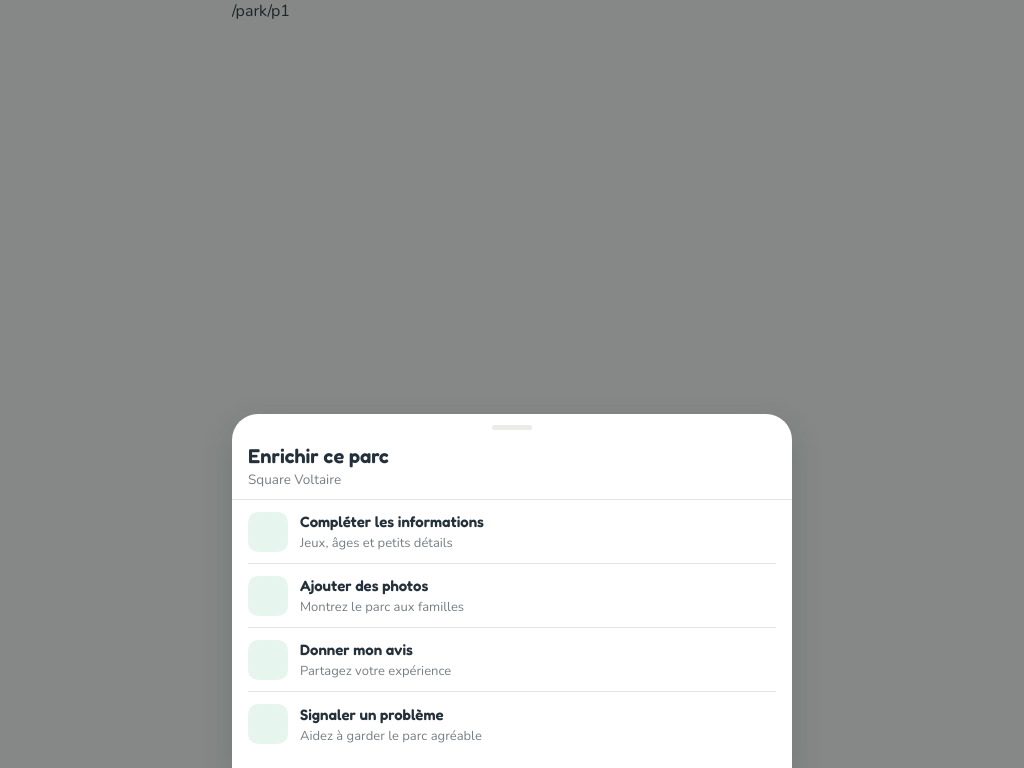
ContributeSheet — « Enrichir ce parc » › « Donner mon avis » ouvre le parcours avec le parc présélectionné
What coordinates should you click on to do the following:
click the text "Donner mon avis"
I would click on:
 (356, 650)
Its box is 300,640 -> 413,659.
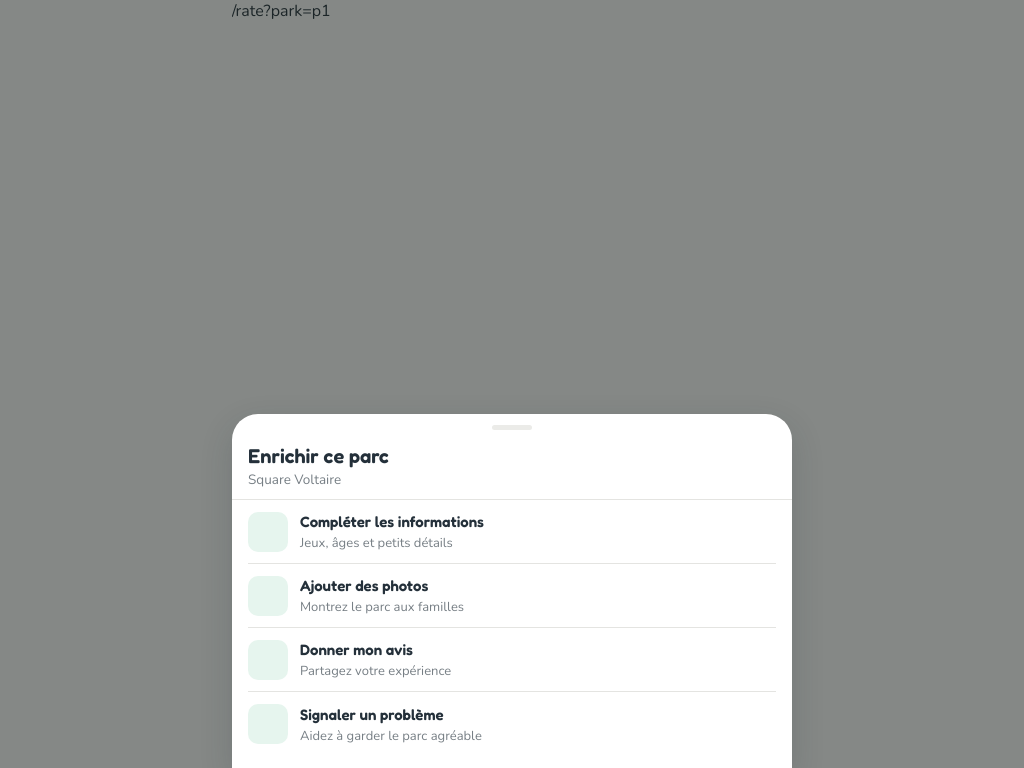
Result: the text with test id "where" reads "/rate?park=p1" at 232,0 -> 331,22
